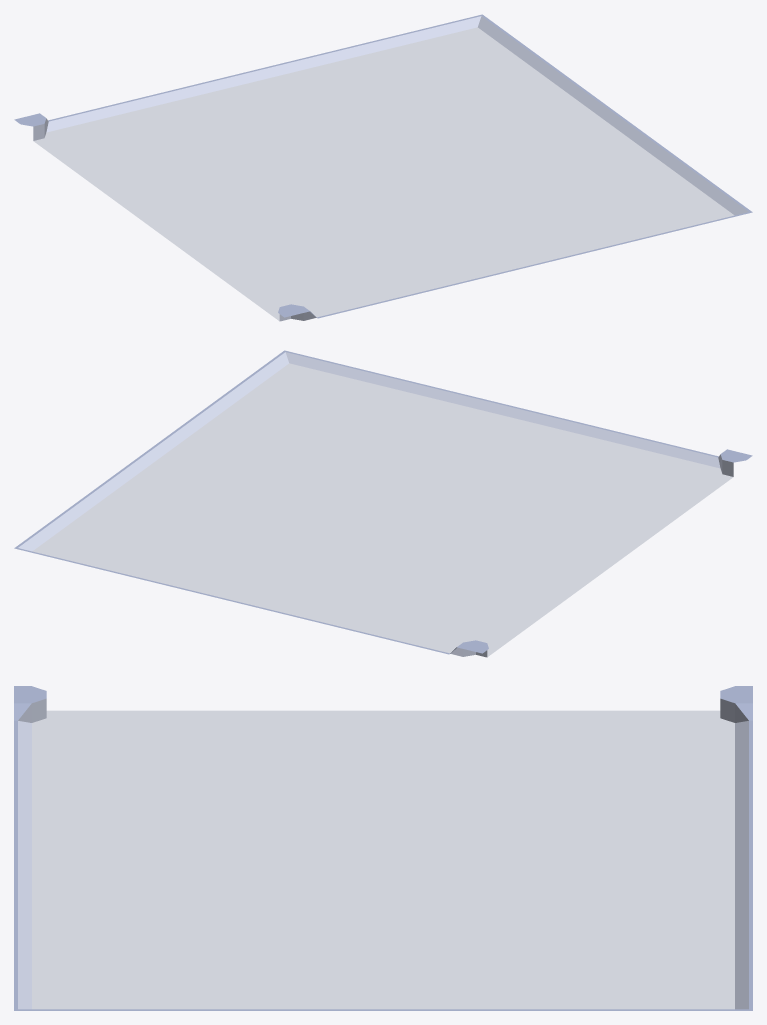
The model's file is Tile_Ceiling_Edge.fbx.
3 renders of one model, top to bottom at view 1: azimuth 30°, elevation 25°; view 2: azimuth 150°, elevation 25°; view 3: azimuth 270°, elevation 25°, orthographic. The views are drawn at different scales.
Parts seen in each view (by area): view 1: Tile_Ceiling_Edge; view 2: Tile_Ceiling_Edge; view 3: Tile_Ceiling_Edge.
Boxes of the visible parts, x1,y1,x2,y2 form: Tile_Ceiling_Edge: [14, 14, 752, 321]; Tile_Ceiling_Edge: [14, 350, 752, 657]; Tile_Ceiling_Edge: [14, 686, 752, 1010].
Size of the model in its own units: 200 by 5.9 by 200.
1 material, 1 textured.
